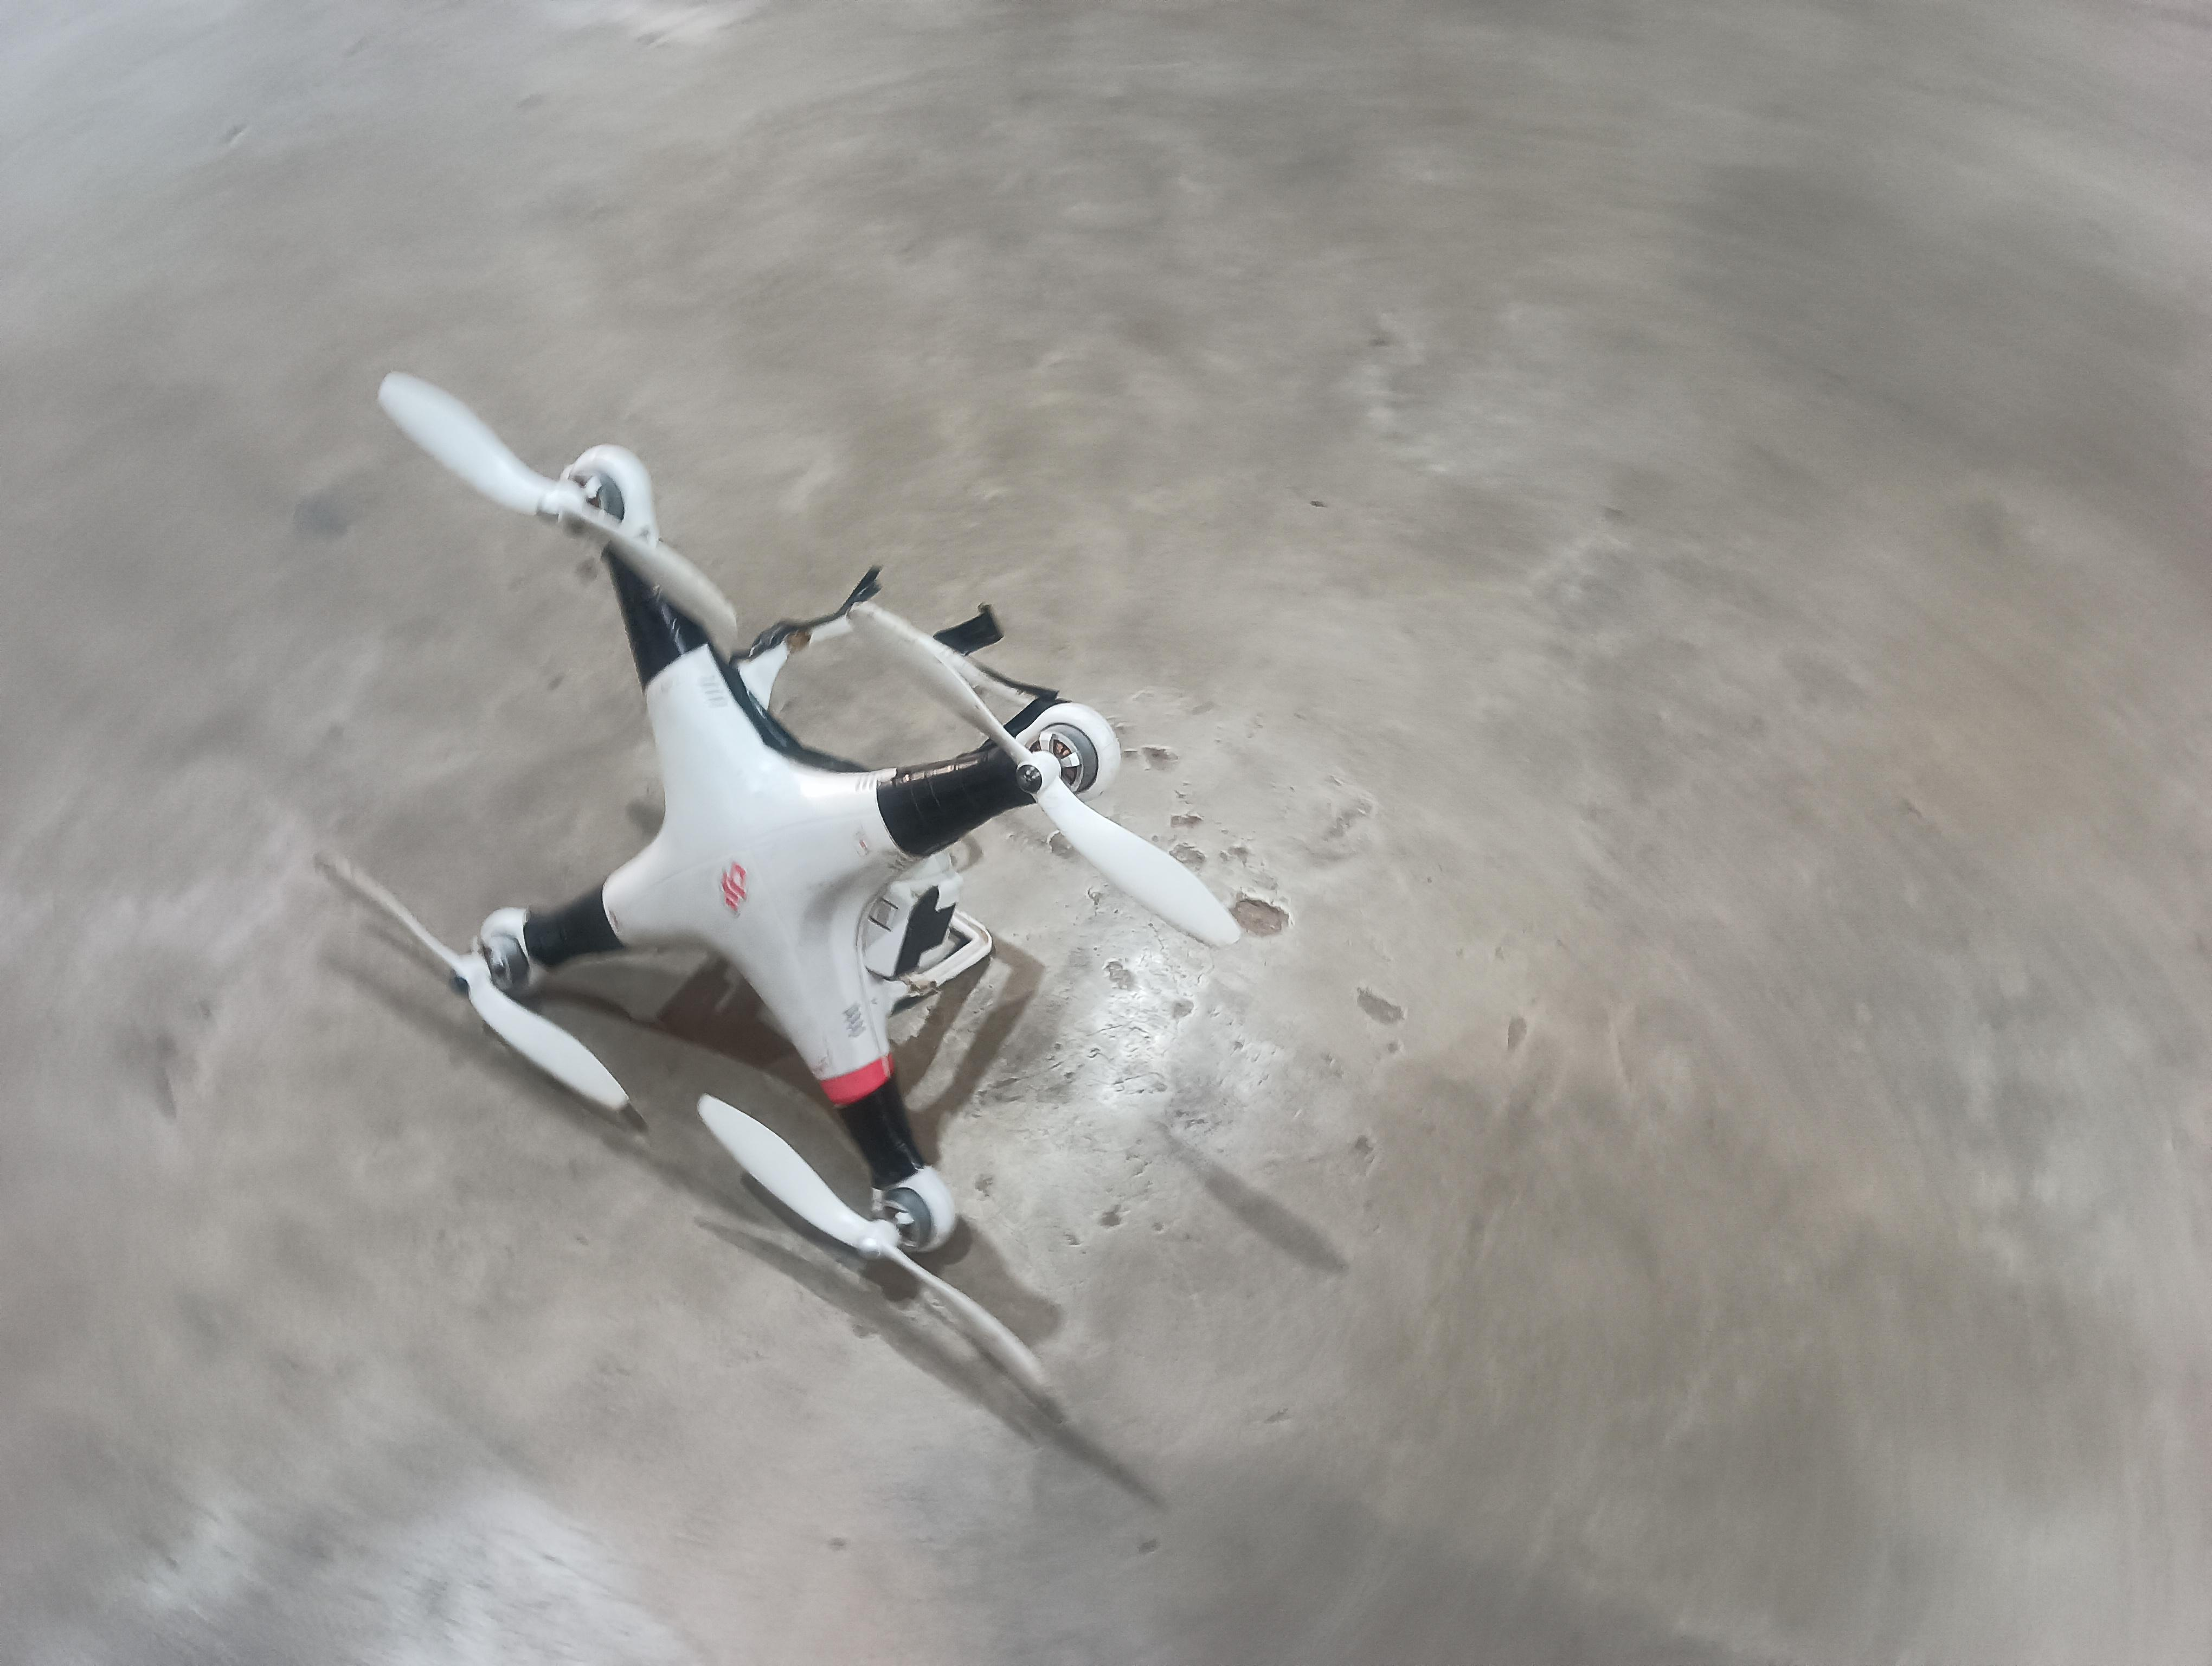drone: (273, 266, 1287, 1440)
